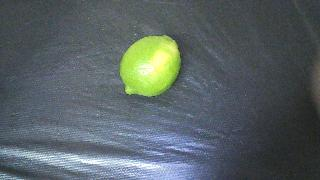LOCAL: (119, 36, 181, 97)
